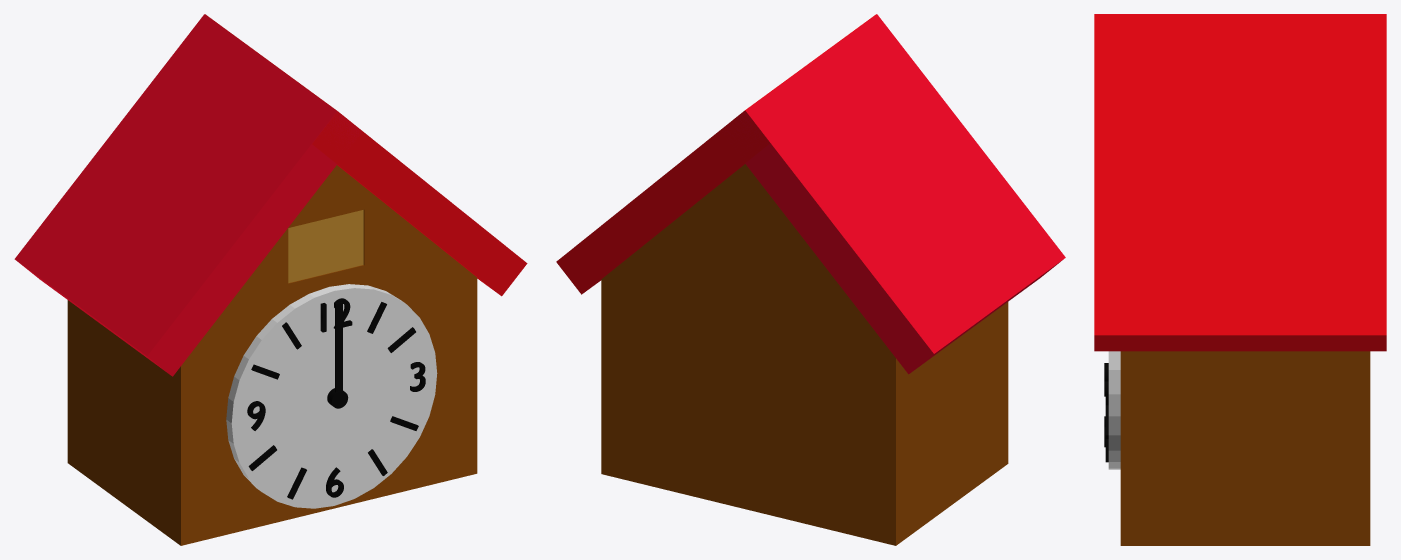
Rendered from asset.glb.
3 views of the same model, side by side, from view 1: azimuth 30°, elevation 25°; view 2: azimuth 150°, elevation 25°; view 3: azimuth 270°, elevation 25° (orthographic). The views are drawn at different scales.
Parts seen in each view (by area): view 1: 時計本体, 時計の中心, ドア, 長針; view 2: 時計本体; view 3: 時計本体, 時計の中心.
Boxes of the visible parts, <box> form: 時計本体: <box>14,14,527,545</box>; 時計の中心: <box>226,284,437,508</box>; ドア: <box>288,210,363,282</box>; 長針: <box>335,302,342,392</box>; 時計本体: <box>556,14,1065,545</box>; 時計本体: <box>1094,14,1386,545</box>; 時計の中心: <box>1105,351,1120,469</box>.
Size of the model in its own units: 6.91 by 7.09 by 4.17.
